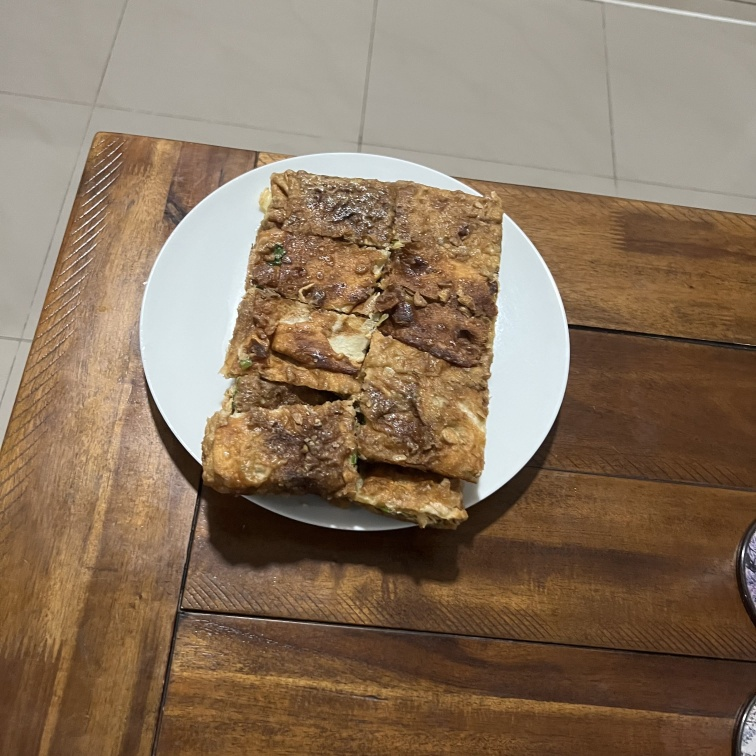martabak telor: (369, 336, 491, 470), (206, 390, 355, 499), (214, 283, 365, 380), (233, 218, 380, 309), (383, 251, 496, 359), (257, 160, 394, 248), (393, 173, 509, 257)
